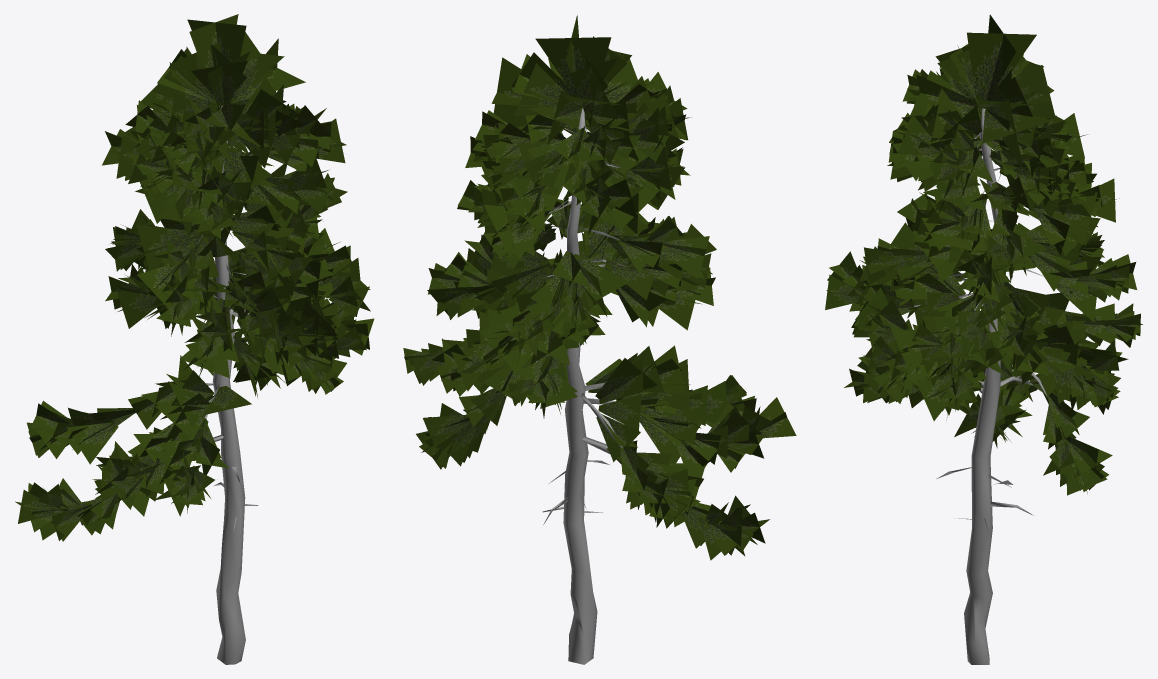
The model's file is pine2 lod1.FBX.
3 renders of one model, left to right at view 1: azimuth 30°, elevation 25°; view 2: azimuth 150°, elevation 25°; view 3: azimuth 270°, elevation 25°, orthographic.
Visible parts, largest first — view 1: pine2_LOD1; view 2: pine2_LOD1; view 3: pine2_LOD1.
Part boxes in pixels (bbox=[...]): pine2_LOD1: bbox=[15, 14, 374, 664]; pine2_LOD1: bbox=[403, 15, 796, 664]; pine2_LOD1: bbox=[825, 14, 1142, 664].
Bounding box in the file's own units: 146719 × 272968 × 124558.
